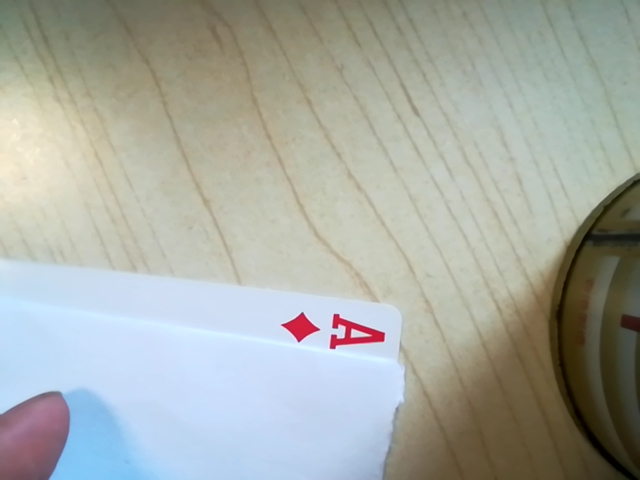fk a: (277, 308, 389, 354)
